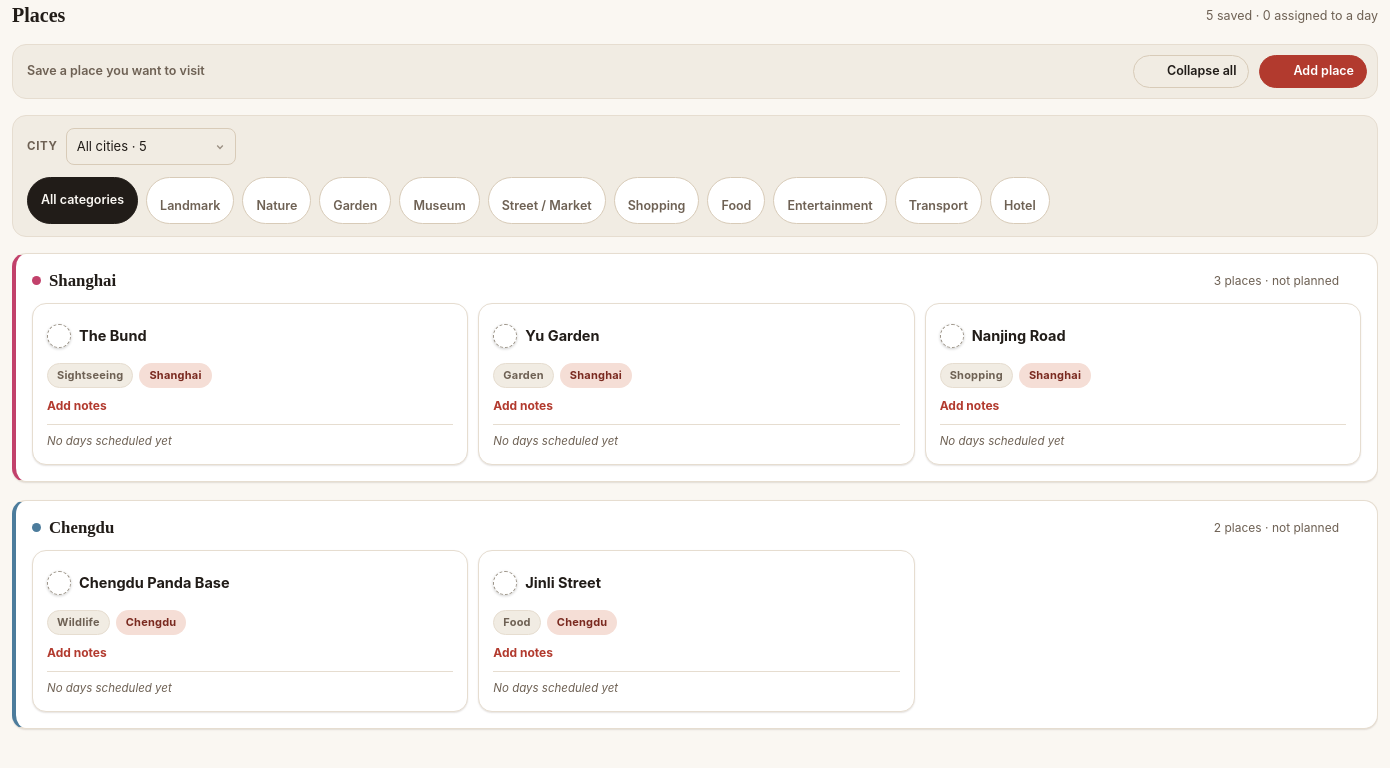
Test case: PlacesPanel — filters › the "Landmark" category chip matches a legacy "Sightseeing" seed place via categoryGroup()
Click the button "Landmark" at (190, 201), box [146,177,234,224]
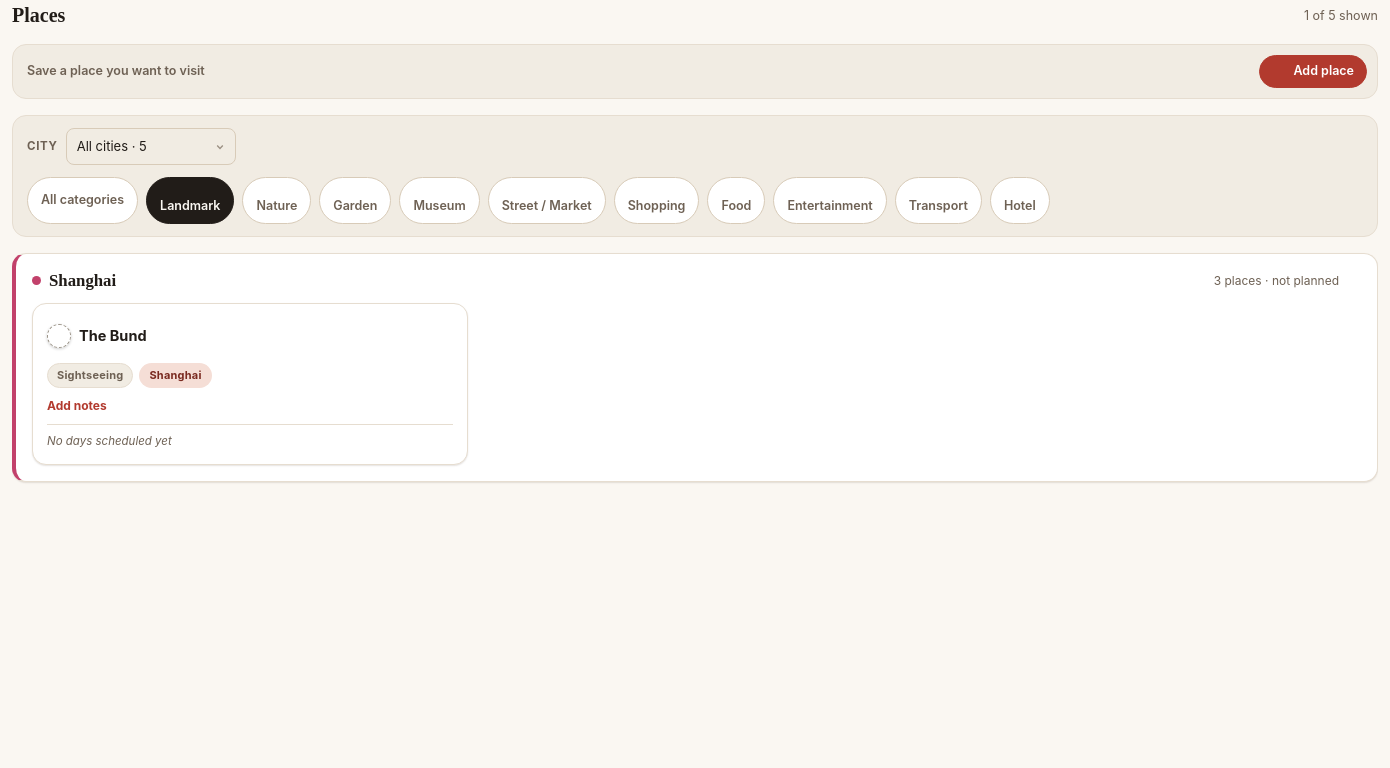
Check: the text "The Bund" is shown, box [79,327,147,346]
Check: the text "Yu Garden" is gone
Check: the text "1 of 5 shown" is shown, box [1304,7,1378,25]
